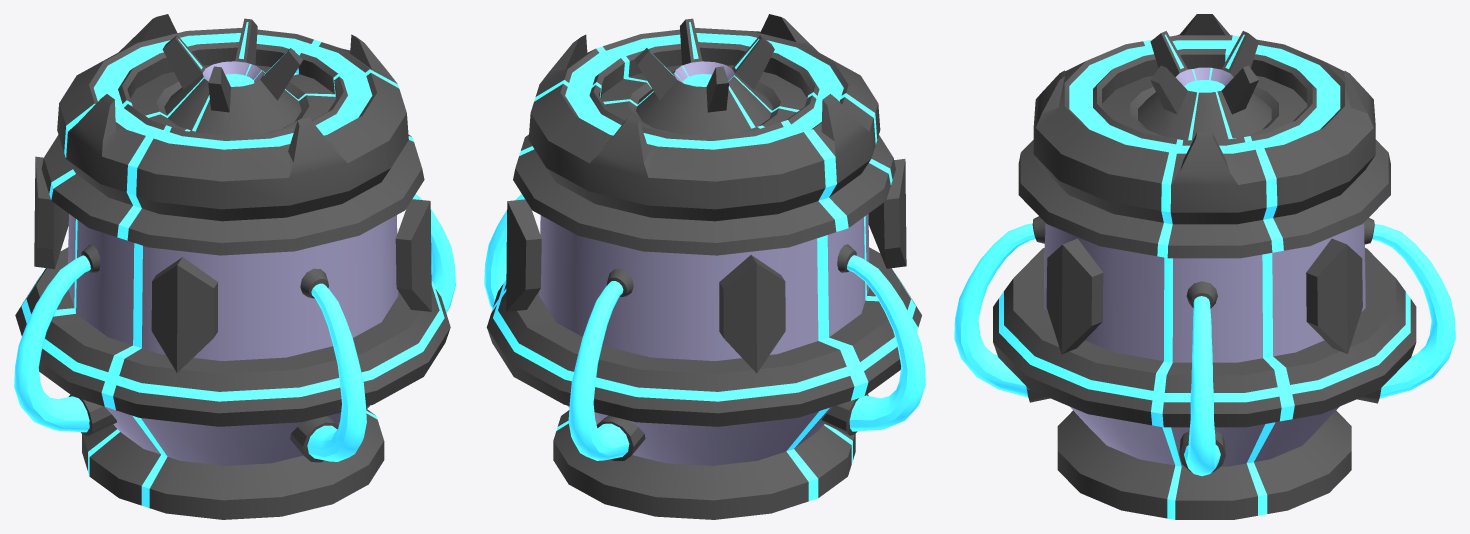
The model's file is diera.fbx.
3 views of the same model, side by side, from view 1: azimuth 30°, elevation 25°; view 2: azimuth 150°, elevation 25°; view 3: azimuth 270°, elevation 25° (orthographic).
Parts seen in each view (by area): view 1: Circle; view 2: Circle; view 3: Circle.
Boxes of the visible parts, <box> form: Circle: <box>14,14,455,519</box>; Circle: <box>484,14,925,519</box>; Circle: <box>954,14,1455,519</box>.
Bounding box in the file's own units: 425 × 383 × 426.
